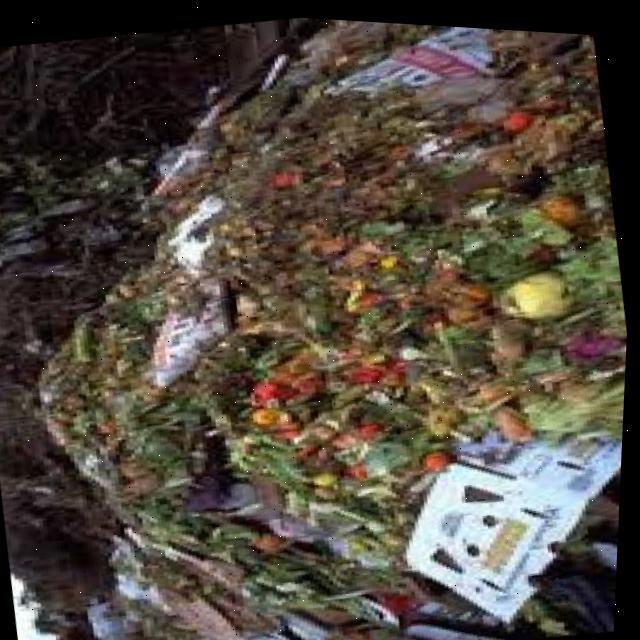Wet: (0, 0, 640, 640), (226, 64, 603, 368), (172, 307, 444, 526), (472, 249, 590, 332)
